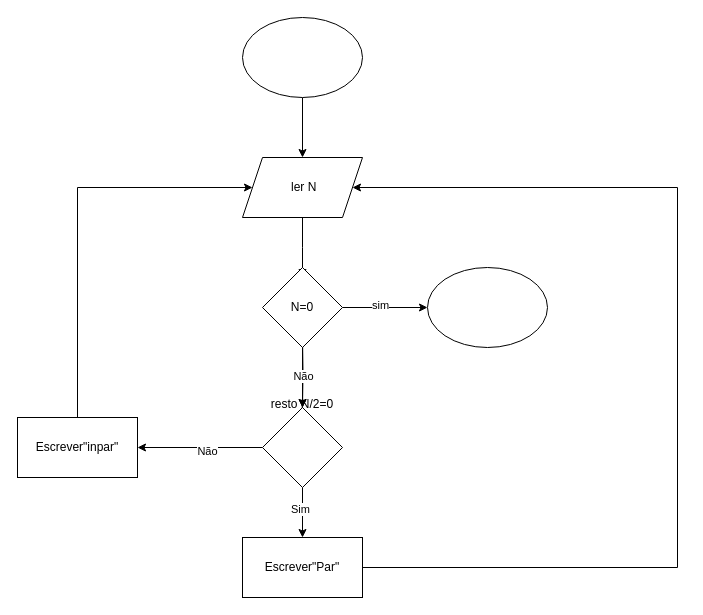
The diagram is 703 pixels wide and 615 high, and some of its shapes have lost their labels. The centre of each missing label's shape, as x and y in pixels:
Fim: point 487,307
inicio: point 302,57
